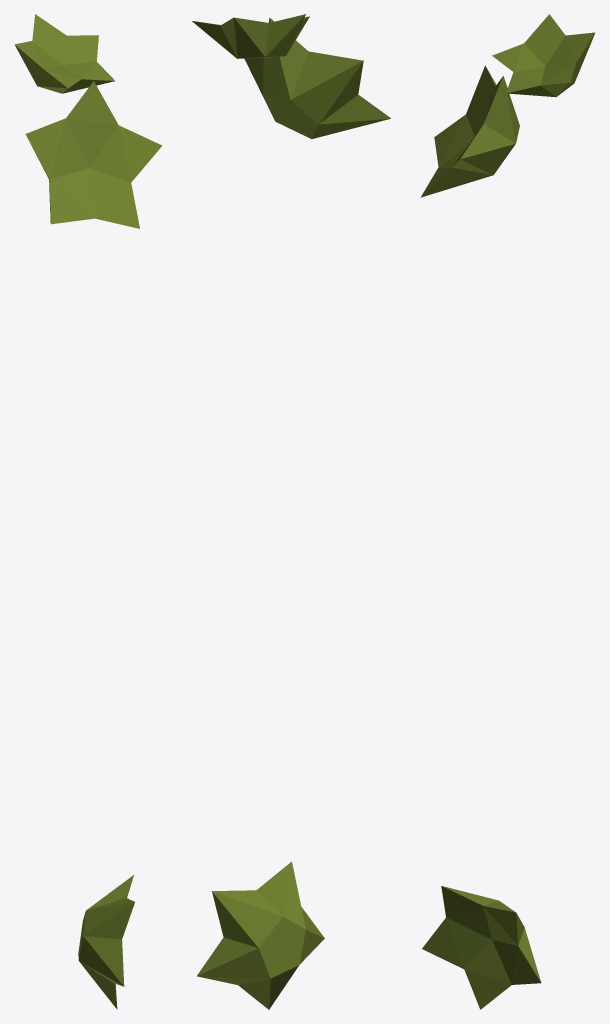
The picture shows the model from 3 angles, left to right: view 1: azimuth 30°, elevation 25°; view 2: azimuth 150°, elevation 25°; view 3: azimuth 270°, elevation 25°; orthographic projection. The views are drawn at different scales.
Visible parts, largest first — view 1: Box15925_green2_0, Box15926_green2_0, Box15905_green2_0; view 2: Box15905_green2_0, Box15925_green2_0, Box15926_green2_0; view 3: Box15905_green2_0, Box15925_green2_0, Box15926_green2_0.
Boxes of the visible parts, x1,y1,x2,y2 form: Box15925_green2_0: (25, 81, 162, 228); Box15926_green2_0: (14, 14, 114, 93); Box15905_green2_0: (78, 875, 134, 1009); Box15905_green2_0: (197, 861, 324, 1009); Box15925_green2_0: (244, 18, 390, 138); Box15926_green2_0: (192, 14, 309, 58); Box15905_green2_0: (422, 886, 541, 1009); Box15925_green2_0: (420, 65, 519, 197); Box15926_green2_0: (492, 14, 595, 97).
Size of the model in its own units: 127 by 921 by 151.
